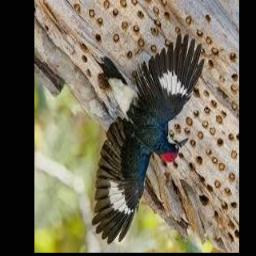Woodpecker: (92, 34, 205, 244)
